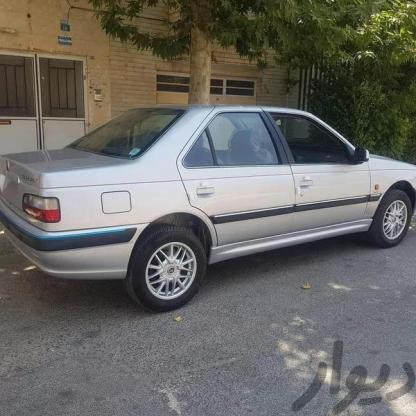Car: (0, 94, 416, 291)
